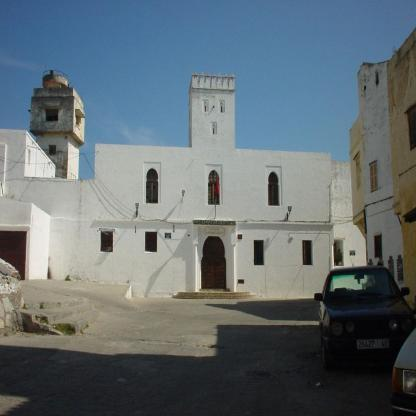Car: (315, 256, 416, 372), (392, 331, 416, 416)
